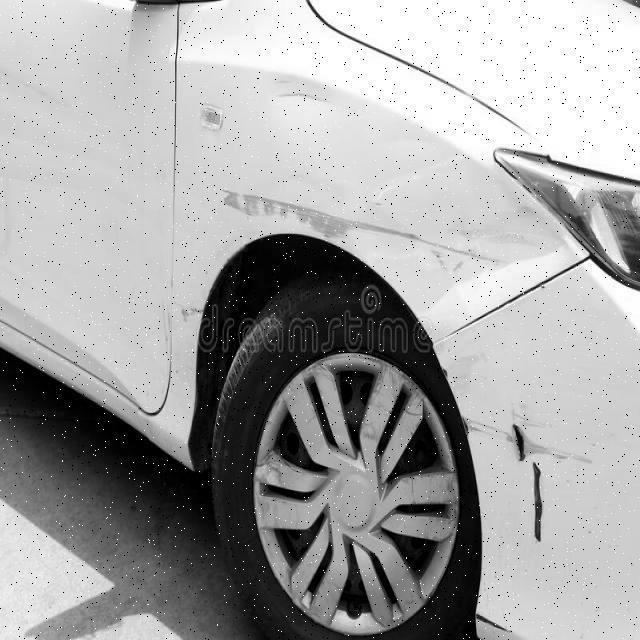fender-dent: (177, 94, 552, 363)
front-bumper-dent: (435, 322, 640, 639)
